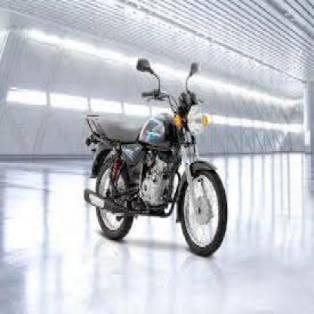Motocicleta: (82, 53, 231, 261)
